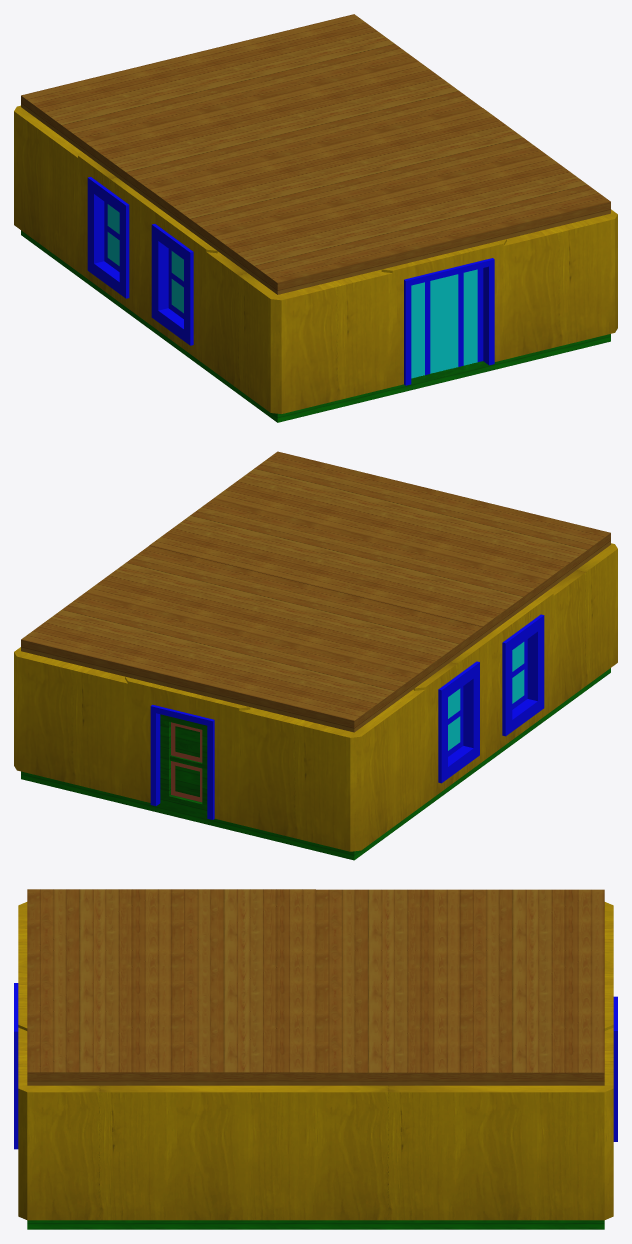
File: secure_room.glb
The picture shows the model from 3 angles, top to bottom: view 1: azimuth 30°, elevation 25°; view 2: azimuth 150°, elevation 25°; view 3: azimuth 270°, elevation 25°; orthographic projection. The views are drawn at different scales.
Parts seen in each view (by area): view 1: mergedBlocks(Clone); view 2: mergedBlocks(Clone); view 3: mergedBlocks(Clone).
Boxes of the visible parts, bbox=[...] form: mergedBlocks(Clone): bbox=[14, 14, 617, 422]; mergedBlocks(Clone): bbox=[14, 451, 617, 860]; mergedBlocks(Clone): bbox=[14, 889, 617, 1229].
Bounding box in the file's own units: 12.62 × 4.81 × 16.74.
6 materials, 3 textured.
